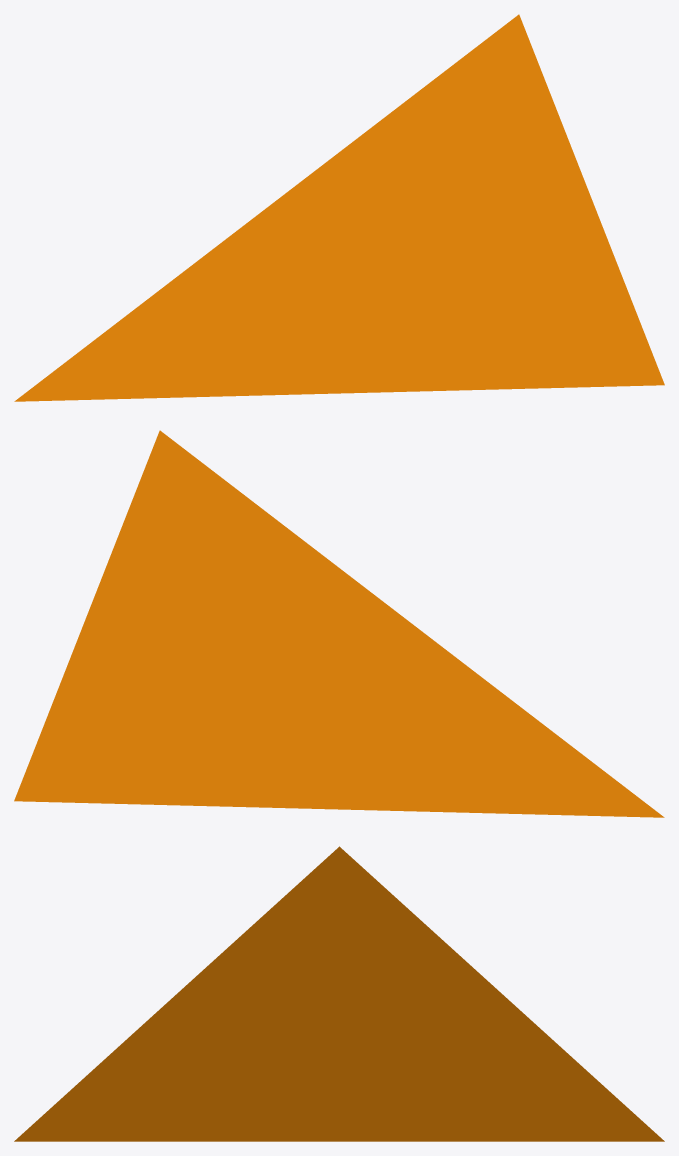
Rendered from Bullet_1.fbx.
3 renders of one model, top to bottom at view 1: azimuth 30°, elevation 25°; view 2: azimuth 150°, elevation 25°; view 3: azimuth 270°, elevation 25°, orthographic. The views are drawn at different scales.
Parts seen in each view (by area): view 1: Bullet_2; view 2: Bullet_2; view 3: Bullet_2.
Boxes of the visible parts, x1,y1,x2,y2 form: Bullet_2: (14, 14, 664, 401); Bullet_2: (14, 430, 664, 817); Bullet_2: (14, 846, 664, 1141).
Size of the model in its own units: 0.9934 by 0.4967 by 0.9934.
